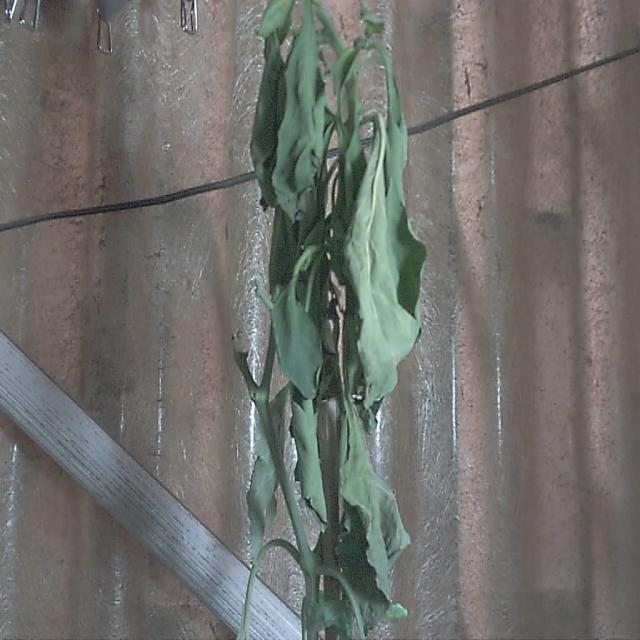Leaf: (345, 125, 422, 411), (340, 402, 412, 632), (269, 18, 316, 223), (270, 277, 324, 402)
